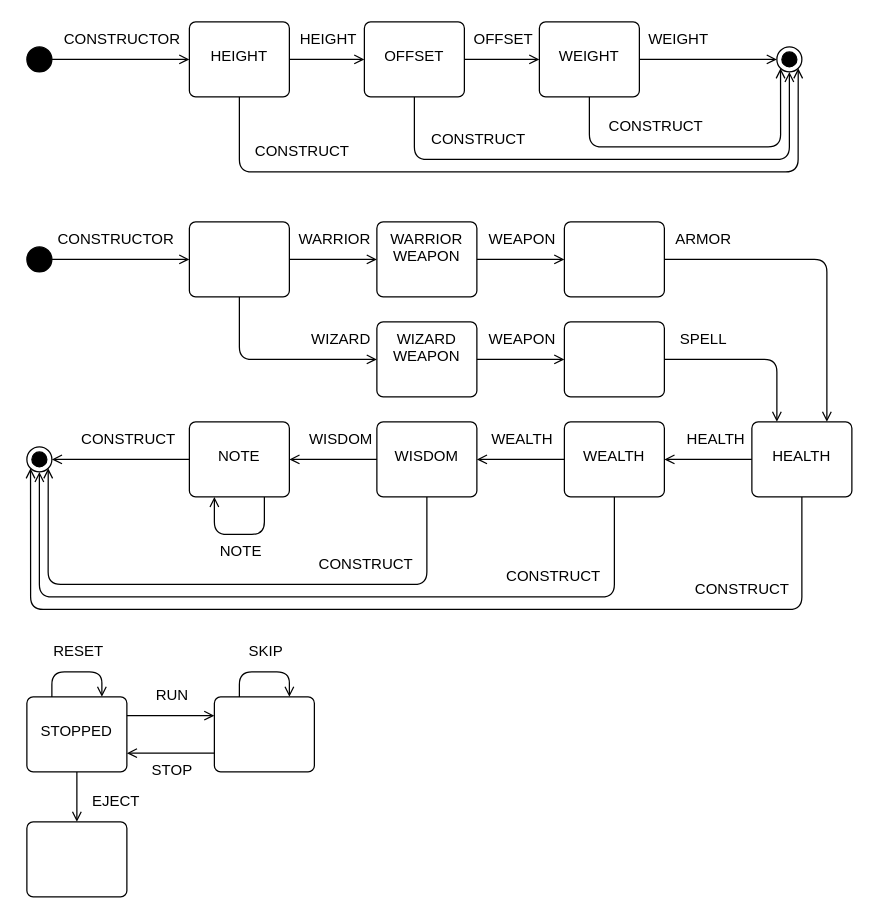
This 875x919 diagram has some shape labels left out. The box of each missing label's shape, as (x1, y1, x2, y2) in pixels:
CHARACTER CLASS: (188, 221, 289, 297)
EJECTED: (26, 821, 127, 897)
RUNNING: (213, 696, 314, 772)
WARRIOR ARMOR: (563, 221, 664, 297)
WIZARD SPELL: (563, 321, 664, 397)
